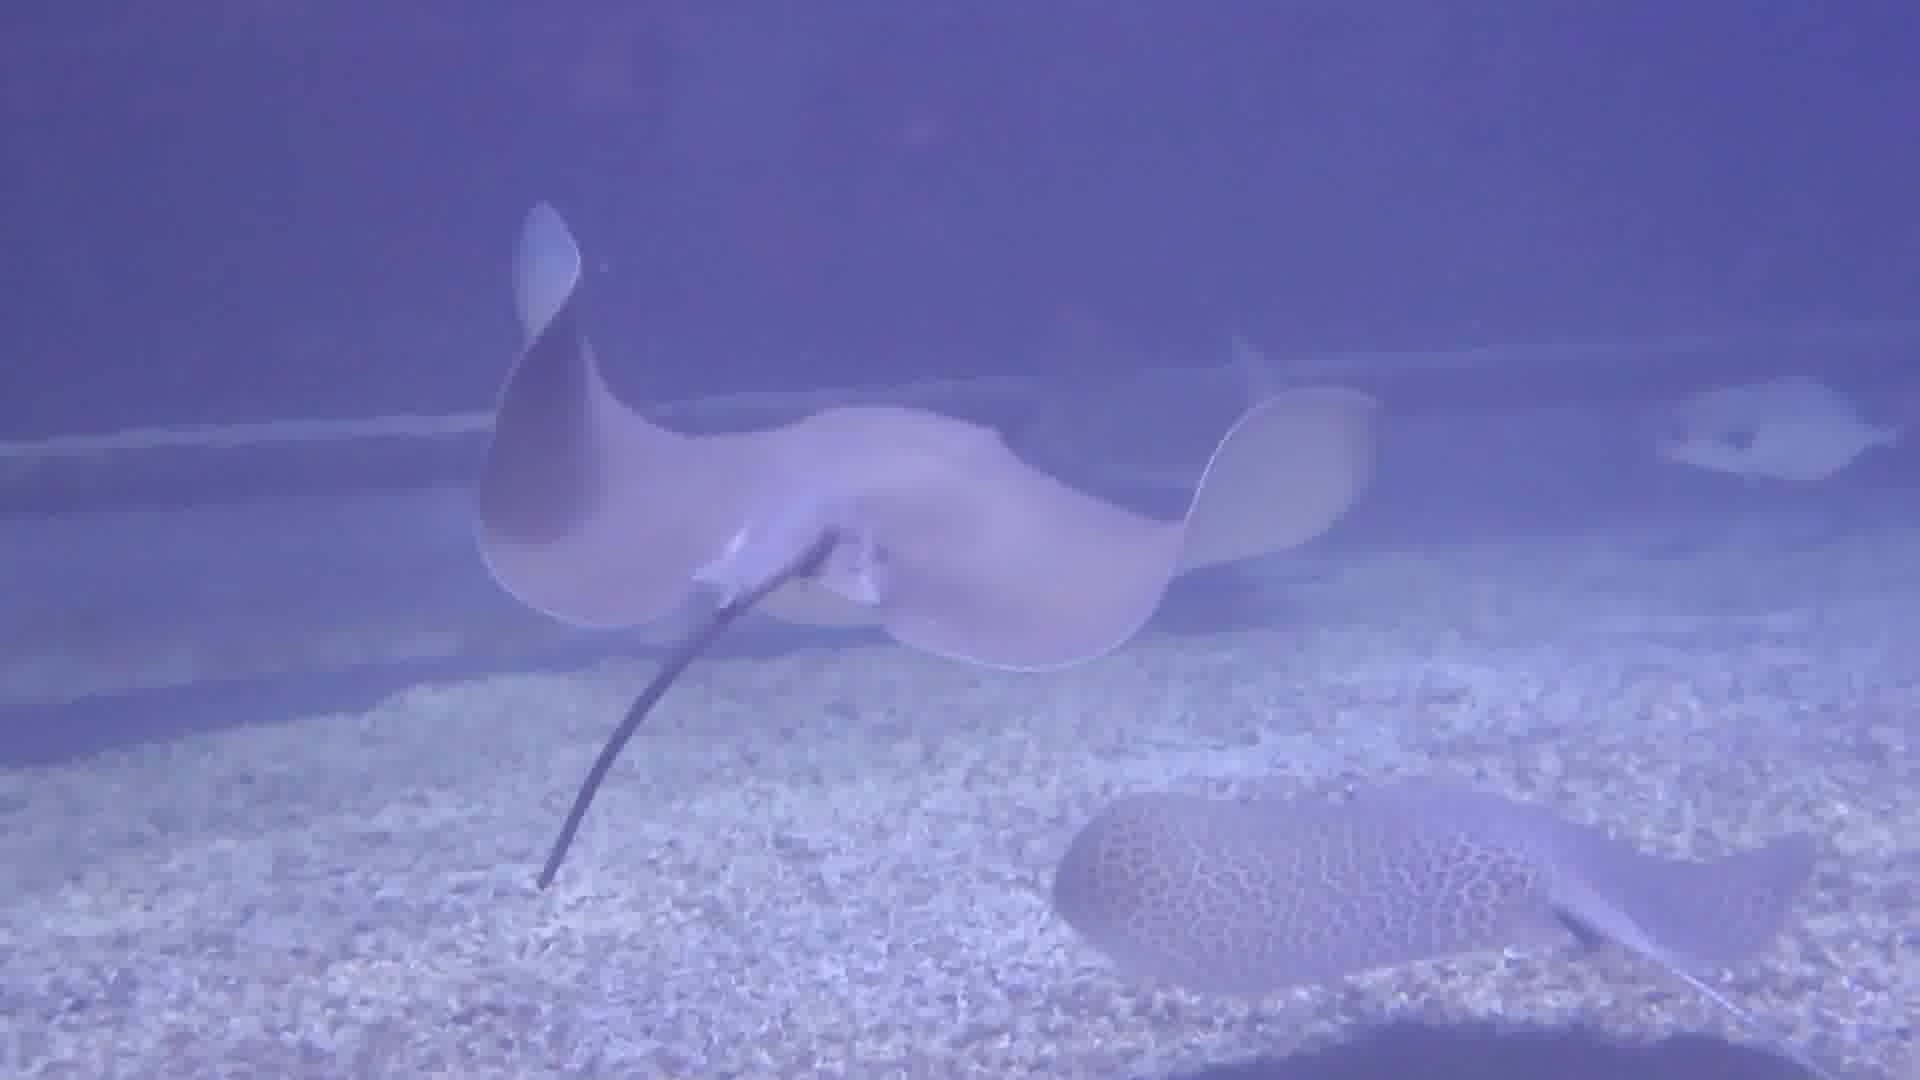Dasyatis akajei: (451, 162, 1385, 893)
